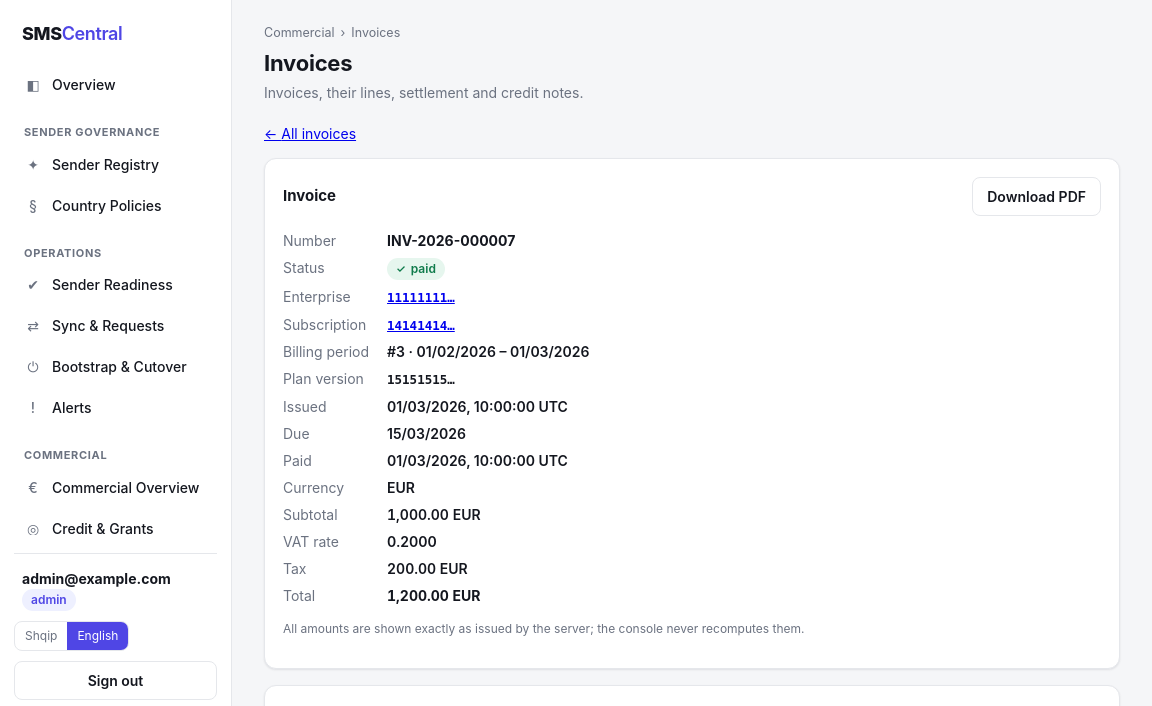
Test: official invoice PDF — Central › 11 shows a loading state and ignores a second click while fetching
The width and height of the screenshot is (1152, 706).
Expected: the navigation bar named "Main navigation" is shown, [14,65,217,535]
Click the button with aria-label "Download official PDF of invoice INV-2026-000007": x=1037, y=196 [972,177,1101,216]
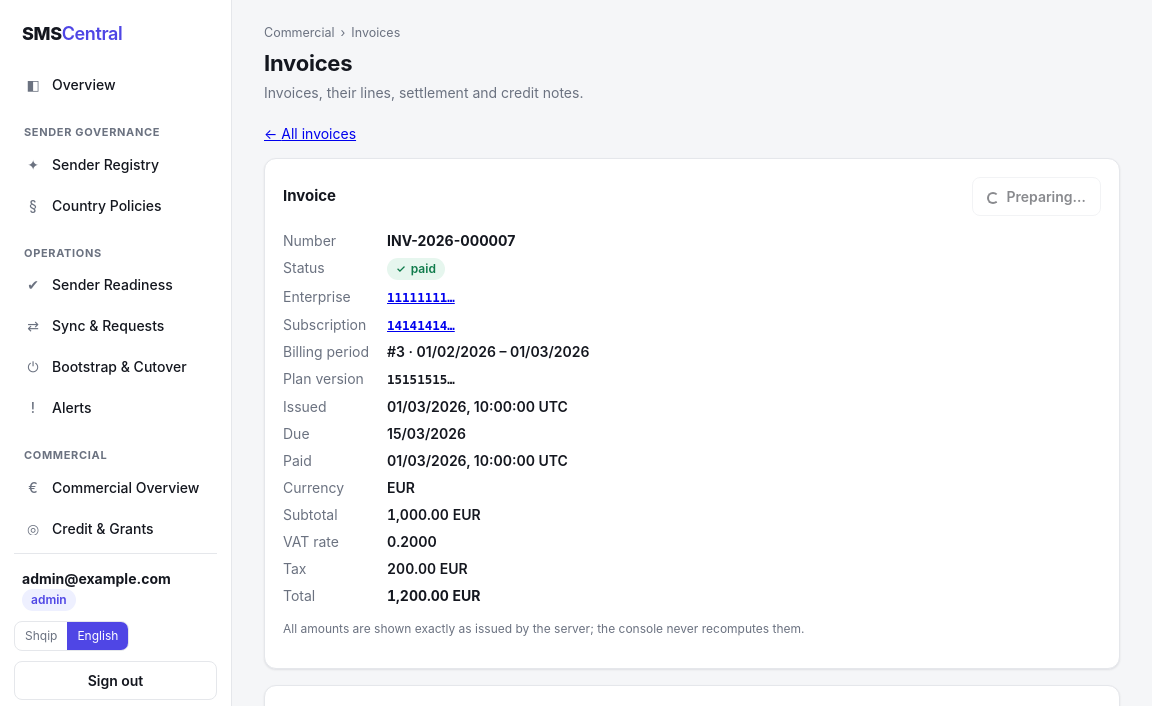
Now the button with aria-label "Download official PDF of invoice INV-2026-000007" is disabled
Now the button with aria-label "Download official PDF of invoice INV-2026-000007" reads "Preparing…"
Click the button with aria-label "Download official PDF of invoice INV-2026-000007": x=1036, y=196 [972,177,1101,216]
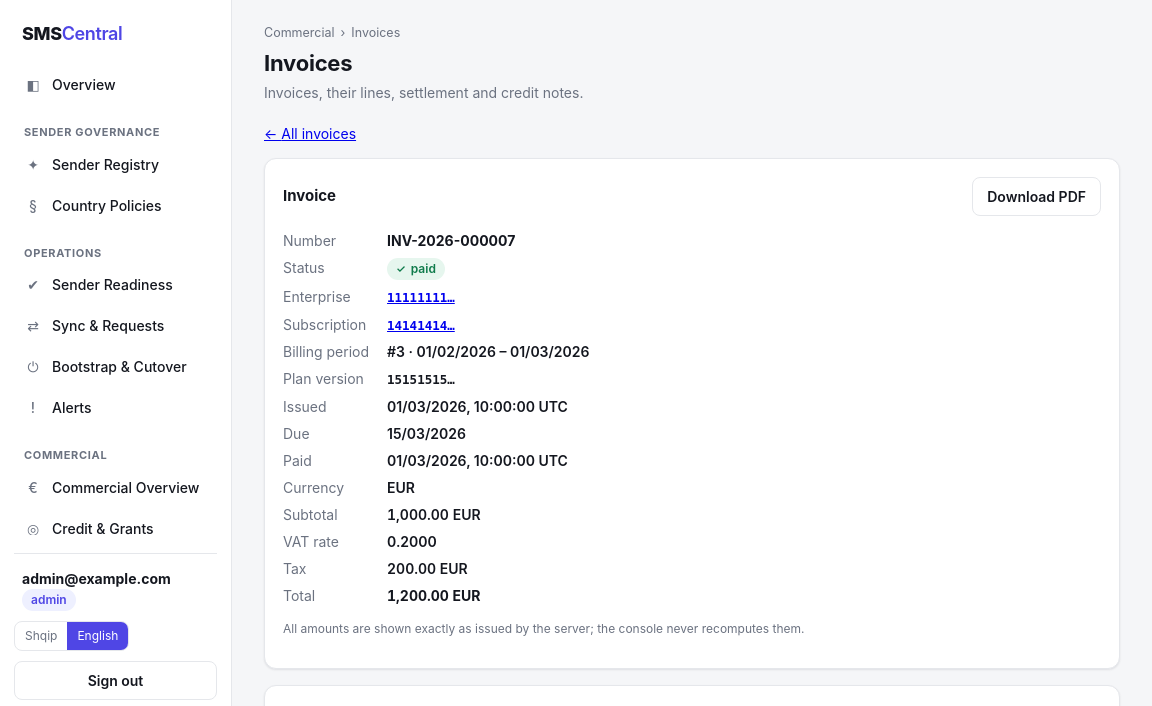
Now the button with aria-label "Download official PDF of invoice INV-2026-000007" is enabled, box [972,177,1101,216]
